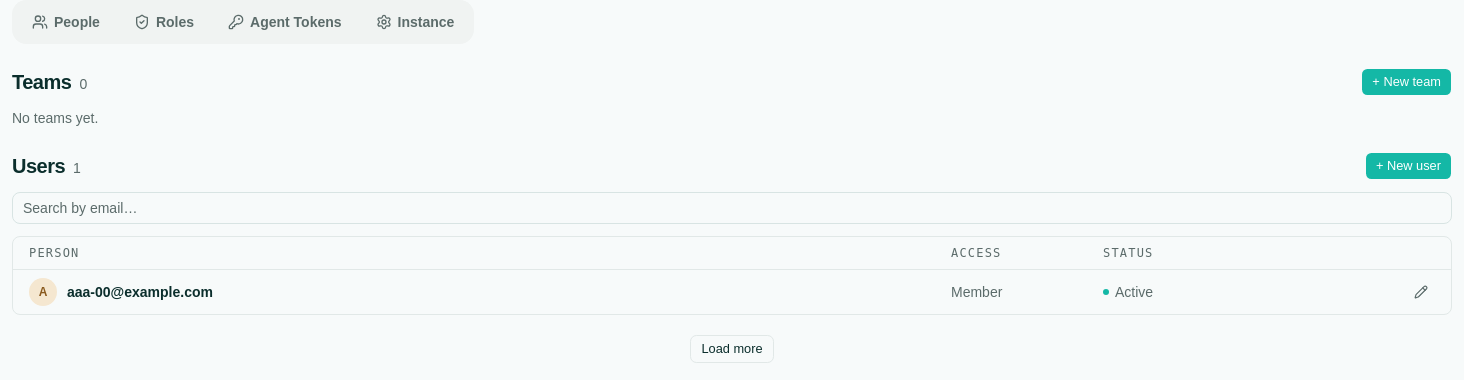
Test: PeoplePage › Users › drains all remaining pages of users when a search query is typed, so search matches across pages
Expected: the text "aaa-00@example.com" is shown, [67, 282, 213, 302]
Expected: the text "bbb-00@example.com" is not shown
Type "bbb" into the field with placeholder "Search by email…".
click(732, 208); type("bbb")  # box [12, 192, 1452, 224]
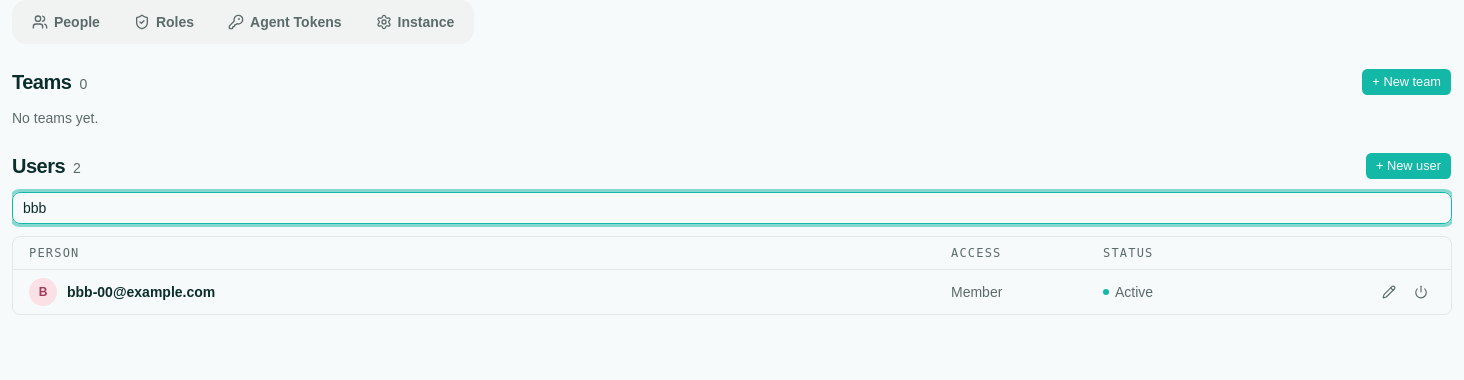
Result: the text "bbb-00@example.com" is shown at [67, 282, 215, 302]
